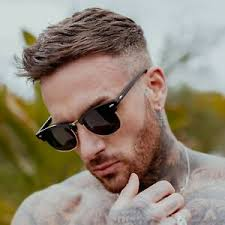g.y: (81, 102, 124, 134)
